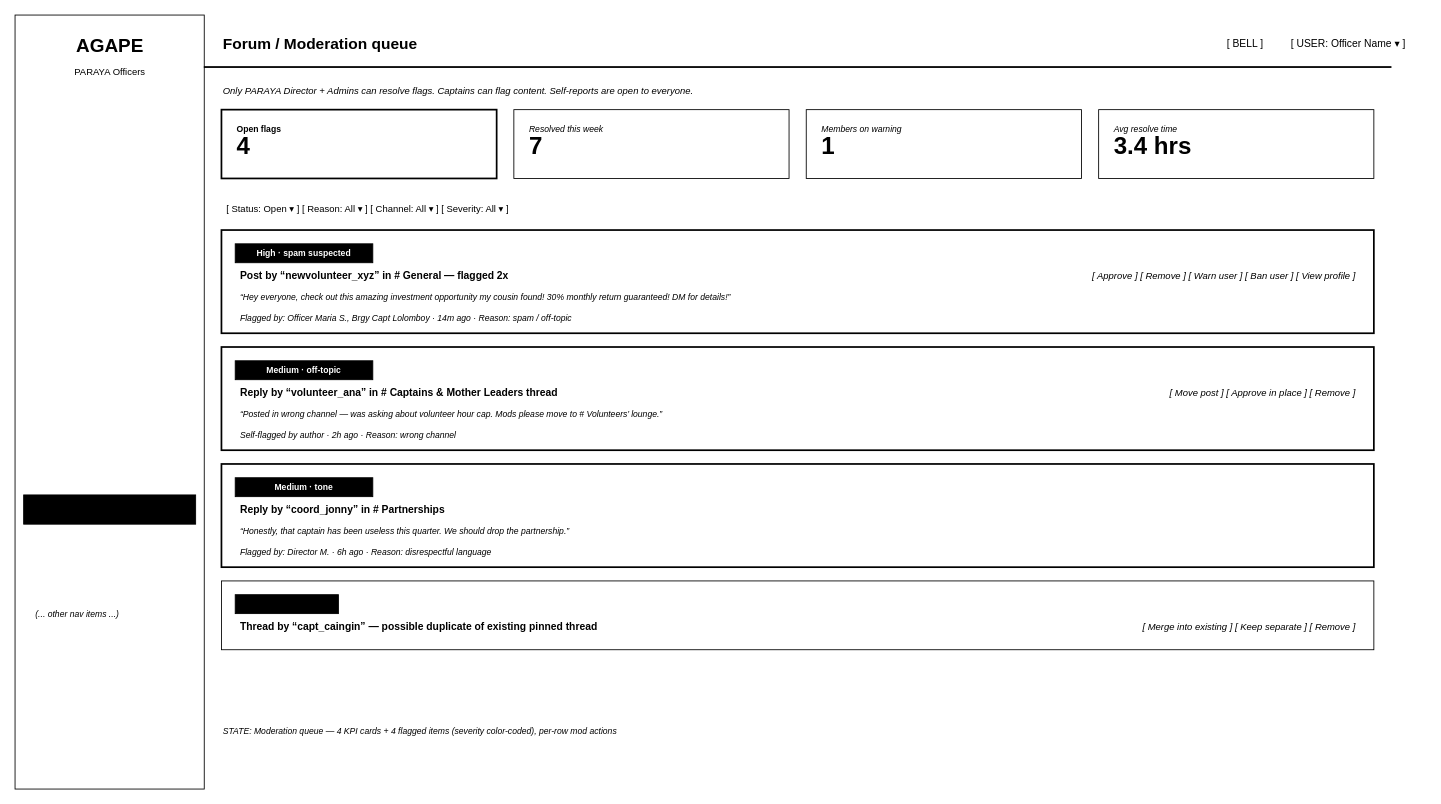
The diagram is 1441 pixels wide and 804 high, and some of its shapes have lost their labels. The shapes that lost their labels are listed below. From the top down, each one's box as (x1, y1, x2, y2) in pixels, then its label:
(23, 494, 196, 524): [x] Forum
(234, 594, 338, 614): Low · duplicate
